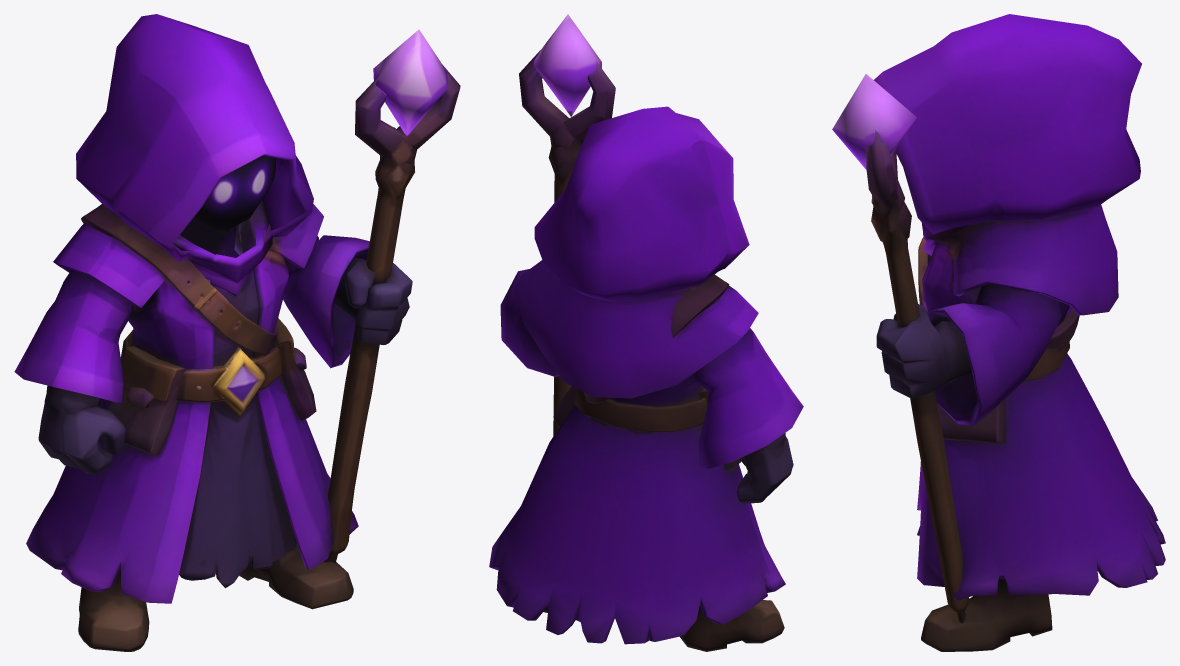
File: necromancer_1.glb
3 views of the same model, side by side, from view 1: azimuth 30°, elevation 25°; view 2: azimuth 150°, elevation 25°; view 3: azimuth 270°, elevation 25° (orthographic). The views are drawn at different scales.
Visible parts, largest first — view 1: tripo_node_c89ea7d8-76bc-438e-817c-fae5296298ab; view 2: tripo_node_c89ea7d8-76bc-438e-817c-fae5296298ab; view 3: tripo_node_c89ea7d8-76bc-438e-817c-fae5296298ab.
Boxes of the visible parts, x1,y1,x2,y2 form: tripo_node_c89ea7d8-76bc-438e-817c-fae5296298ab: [14, 14, 460, 651]; tripo_node_c89ea7d8-76bc-438e-817c-fae5296298ab: [489, 14, 803, 651]; tripo_node_c89ea7d8-76bc-438e-817c-fae5296298ab: [832, 14, 1165, 651].
Bounding box in the file's own units: 0.6616 × 0.9995 × 0.5103.
Materials: 1 (1 with a texture image).
